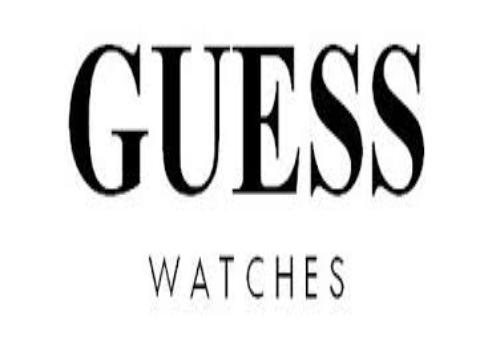GUESS: (62, 39, 426, 199)
